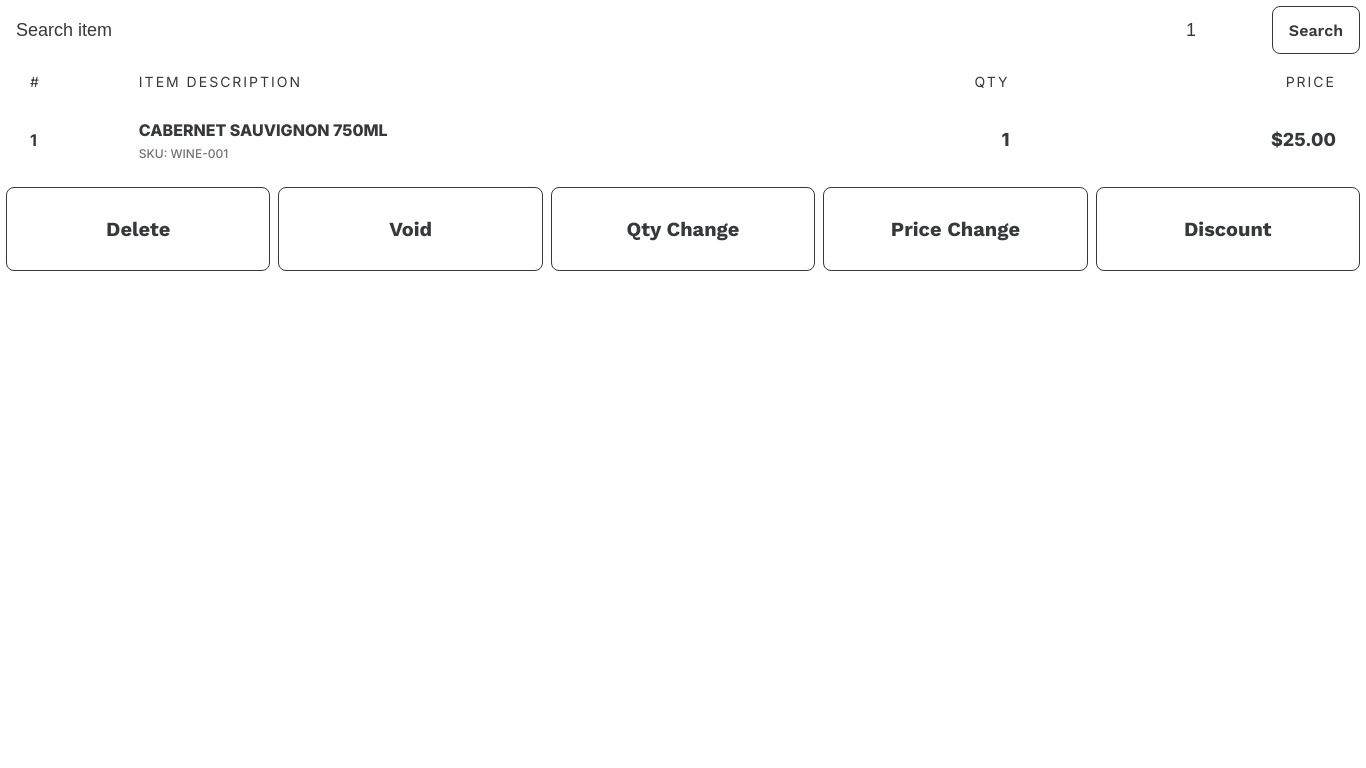
TicketPanel › restores original db price and closes modal when original price is clicked
The image size is (1366, 768).
Click the button "Price Change".
click(955, 229)  # box [823,187,1088,271]
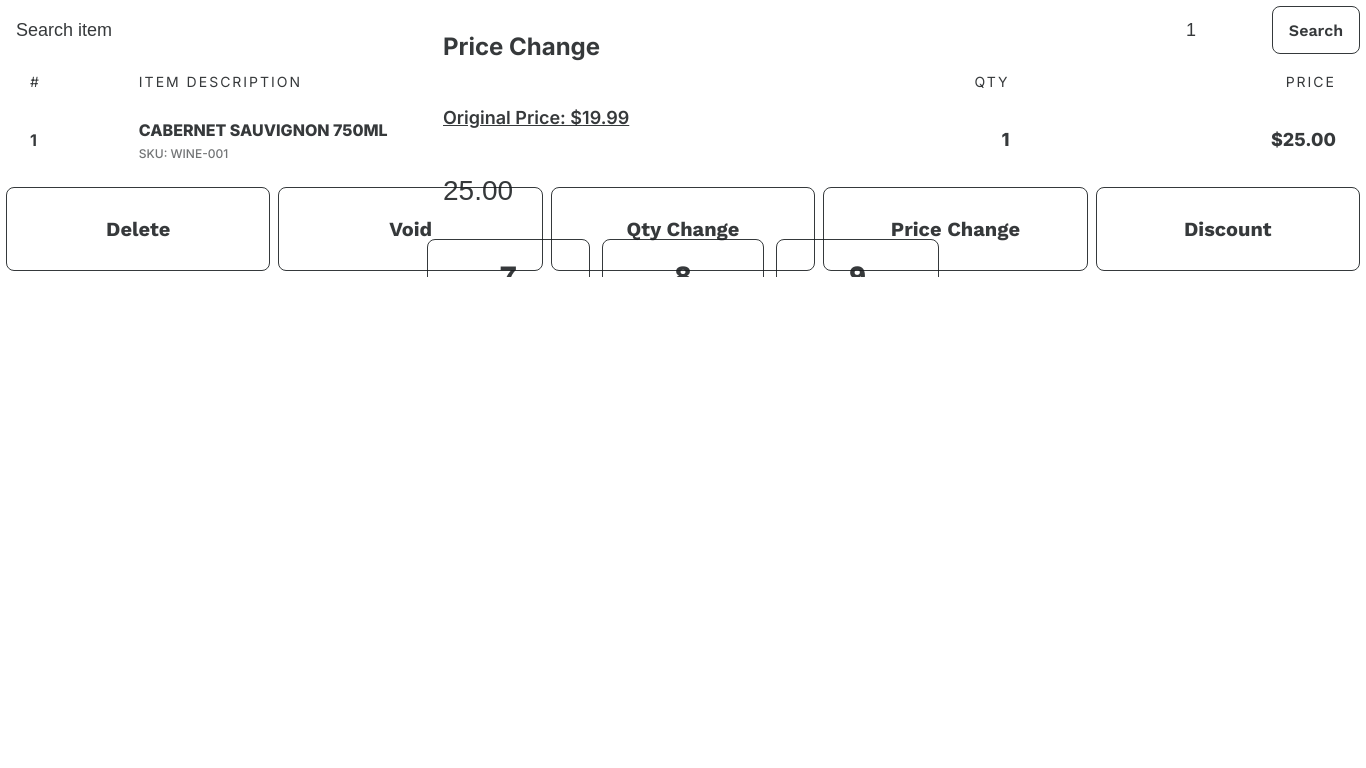
Click the button "Original Price: $19.99".
click(536, 119)  # box [443,104,629,133]
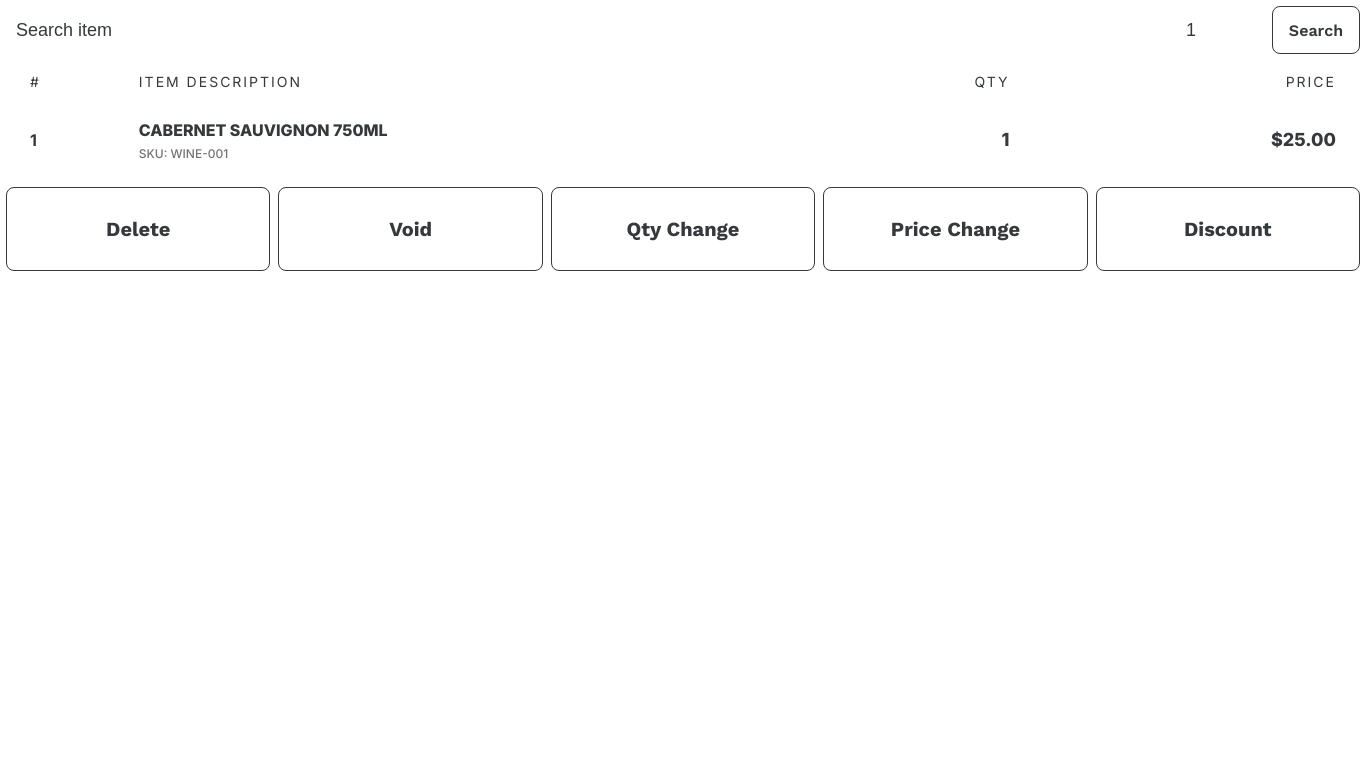
Check: the element with test id "edit-modal" is gone
